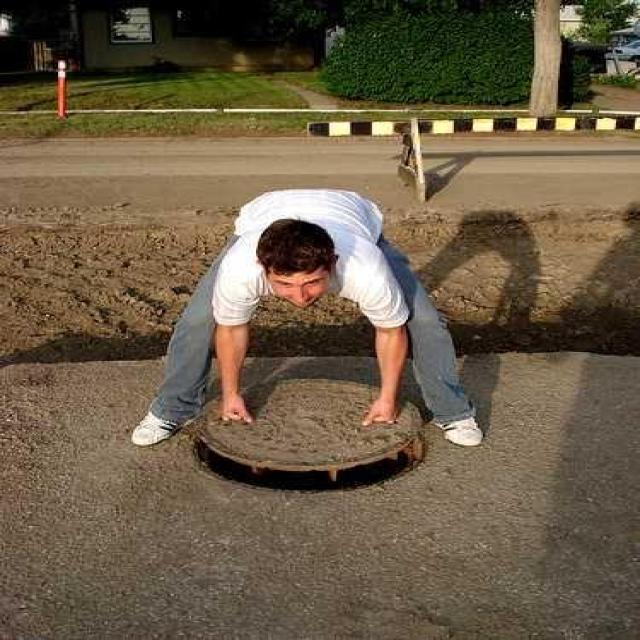manhole: (184, 379, 425, 489)
